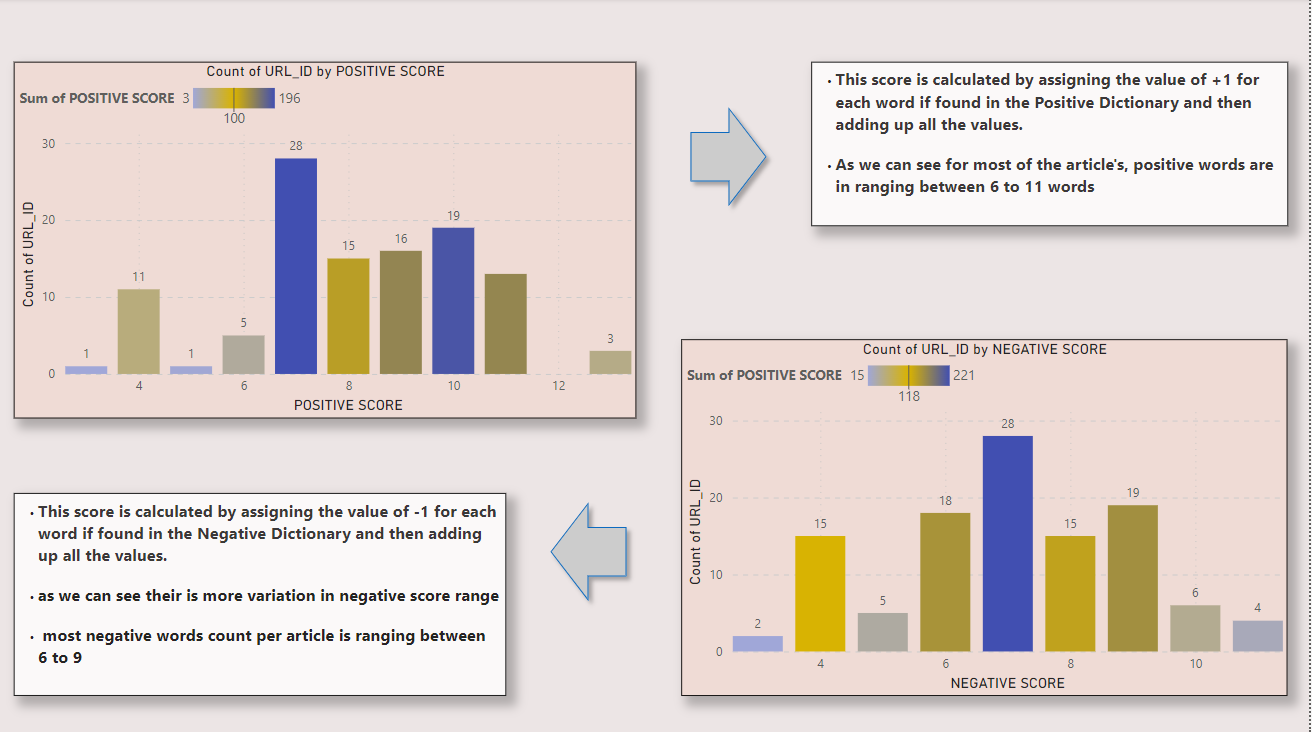

What the dashboard file says about the page in this screenshot:
{"tool":"powerbi","page":{"name":"positive and negative score","canvas":[1280,720],"ordinal":0},"visuals":[{"type":"clusteredColumnChart","fields":{"Category":["Output_file.POSITIVE SCORE"],"Y":["CountNonNull(Output_file.URL_ID)"]},"box":[13.2,62,608.6,348.5],"z":0},{"type":"textbox","box":[793.4,62,466,161.1],"z":1000},{"type":"shape","box":[666.7,97.7,92.4,114.9],"z":2000},{"type":"clusteredColumnChart","fields":{"Y":["CountNonNull(Output_file.URL_ID)"],"Category":["Output_file.NEGATIVE SCORE"]},"box":[666.7,334,592.7,348.5],"z":3000},{"type":"shape","box":[529.4,484.5,92.4,114.9],"z":4000},{"type":"textbox","box":[13.2,484.5,481.9,198],"z":4001}]}

Visuals, with their boxes in screenshot pixels (x1, y1, x2, y2), scaled from the page's 1280x720 canvas onto the 1312x732 screenshot:
clusteredColumnChart - Output_file.POSITIVE SCORE x CountNonNull(Output_file.URL_ID): x1=14 y1=63 x2=637 y2=417
textbox: x1=813 y1=63 x2=1291 y2=227
shape: x1=683 y1=99 x2=778 y2=216
clusteredColumnChart - CountNonNull(Output_file.URL_ID) x Output_file.NEGATIVE SCORE: x1=683 y1=340 x2=1291 y2=694
shape: x1=543 y1=493 x2=637 y2=609
textbox: x1=14 y1=493 x2=507 y2=694
